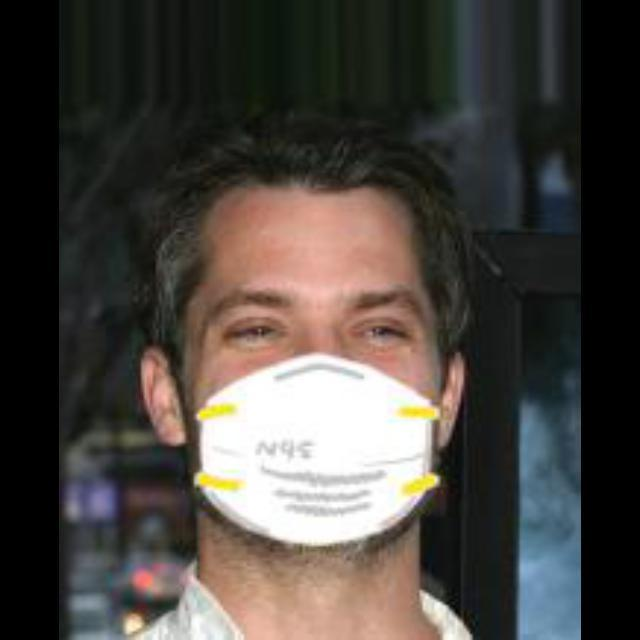suspicion: (152, 120, 480, 548)
